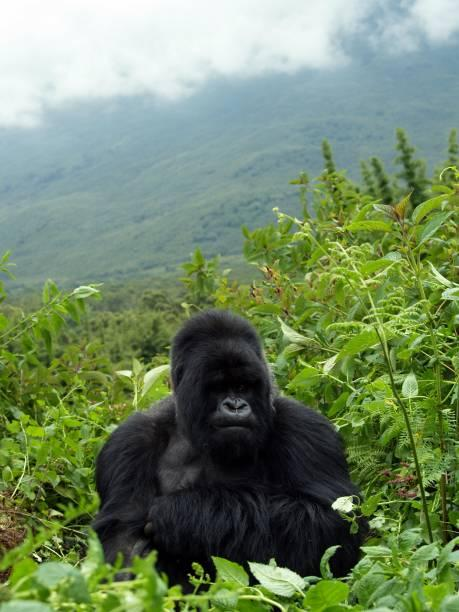goriile_montagne: (53, 274, 396, 601)
